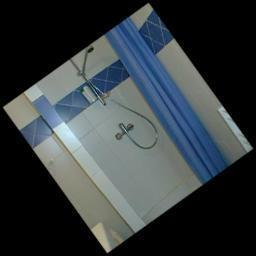Ducha: (36, 10, 246, 228)
